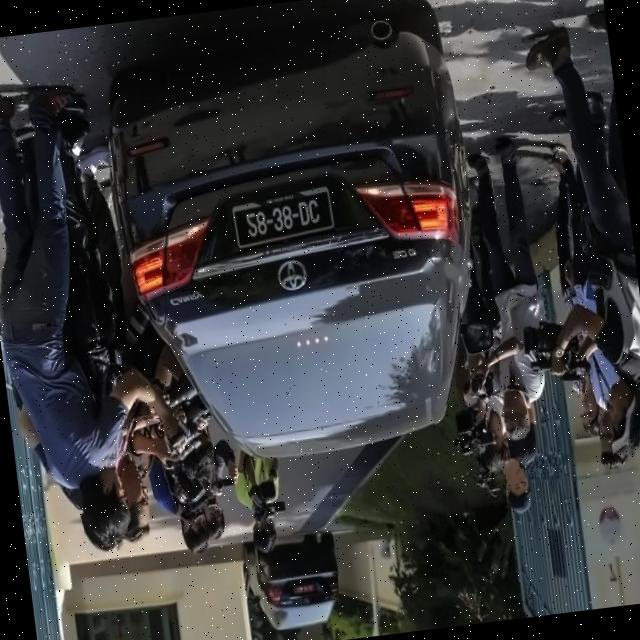License_Plate: (233, 187, 338, 262)
car: (100, 67, 494, 478)
